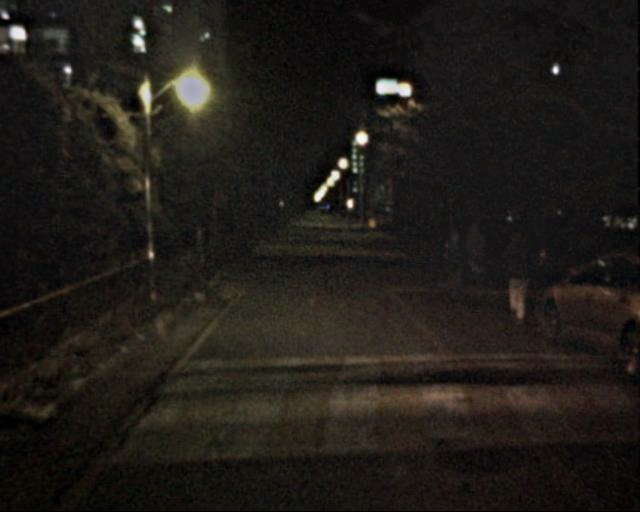person: (498, 229, 539, 328), (462, 220, 498, 297), (442, 227, 475, 297)
